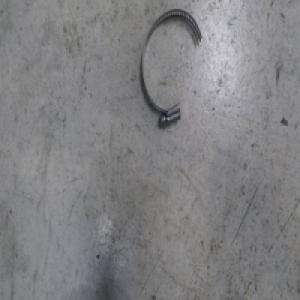AdjustableClamp: (139, 7, 202, 127)
